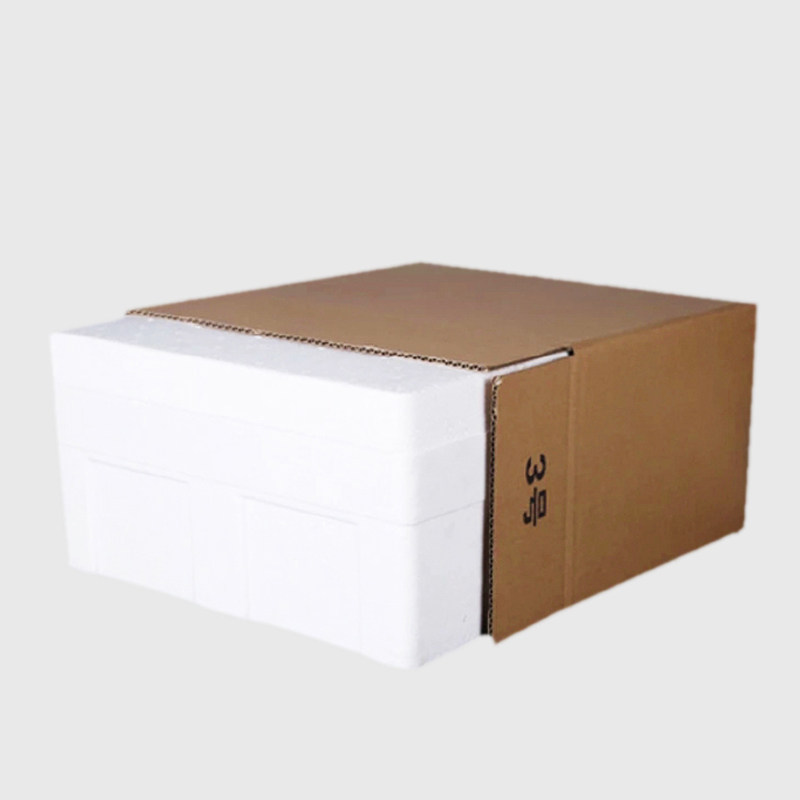Boxes: (51, 317, 485, 668)
